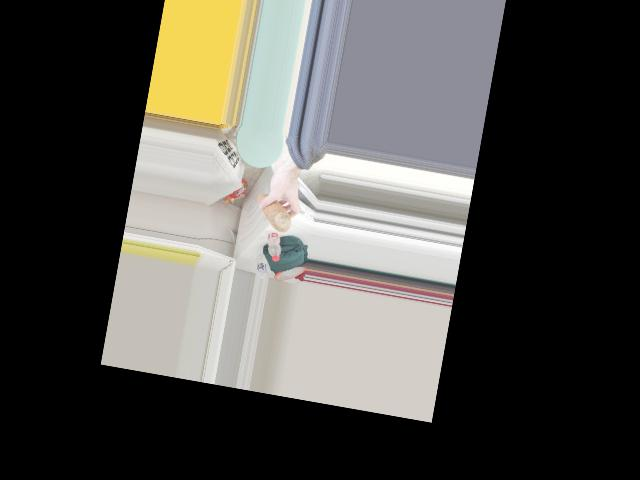sweet_potato: (249, 192, 298, 233)
